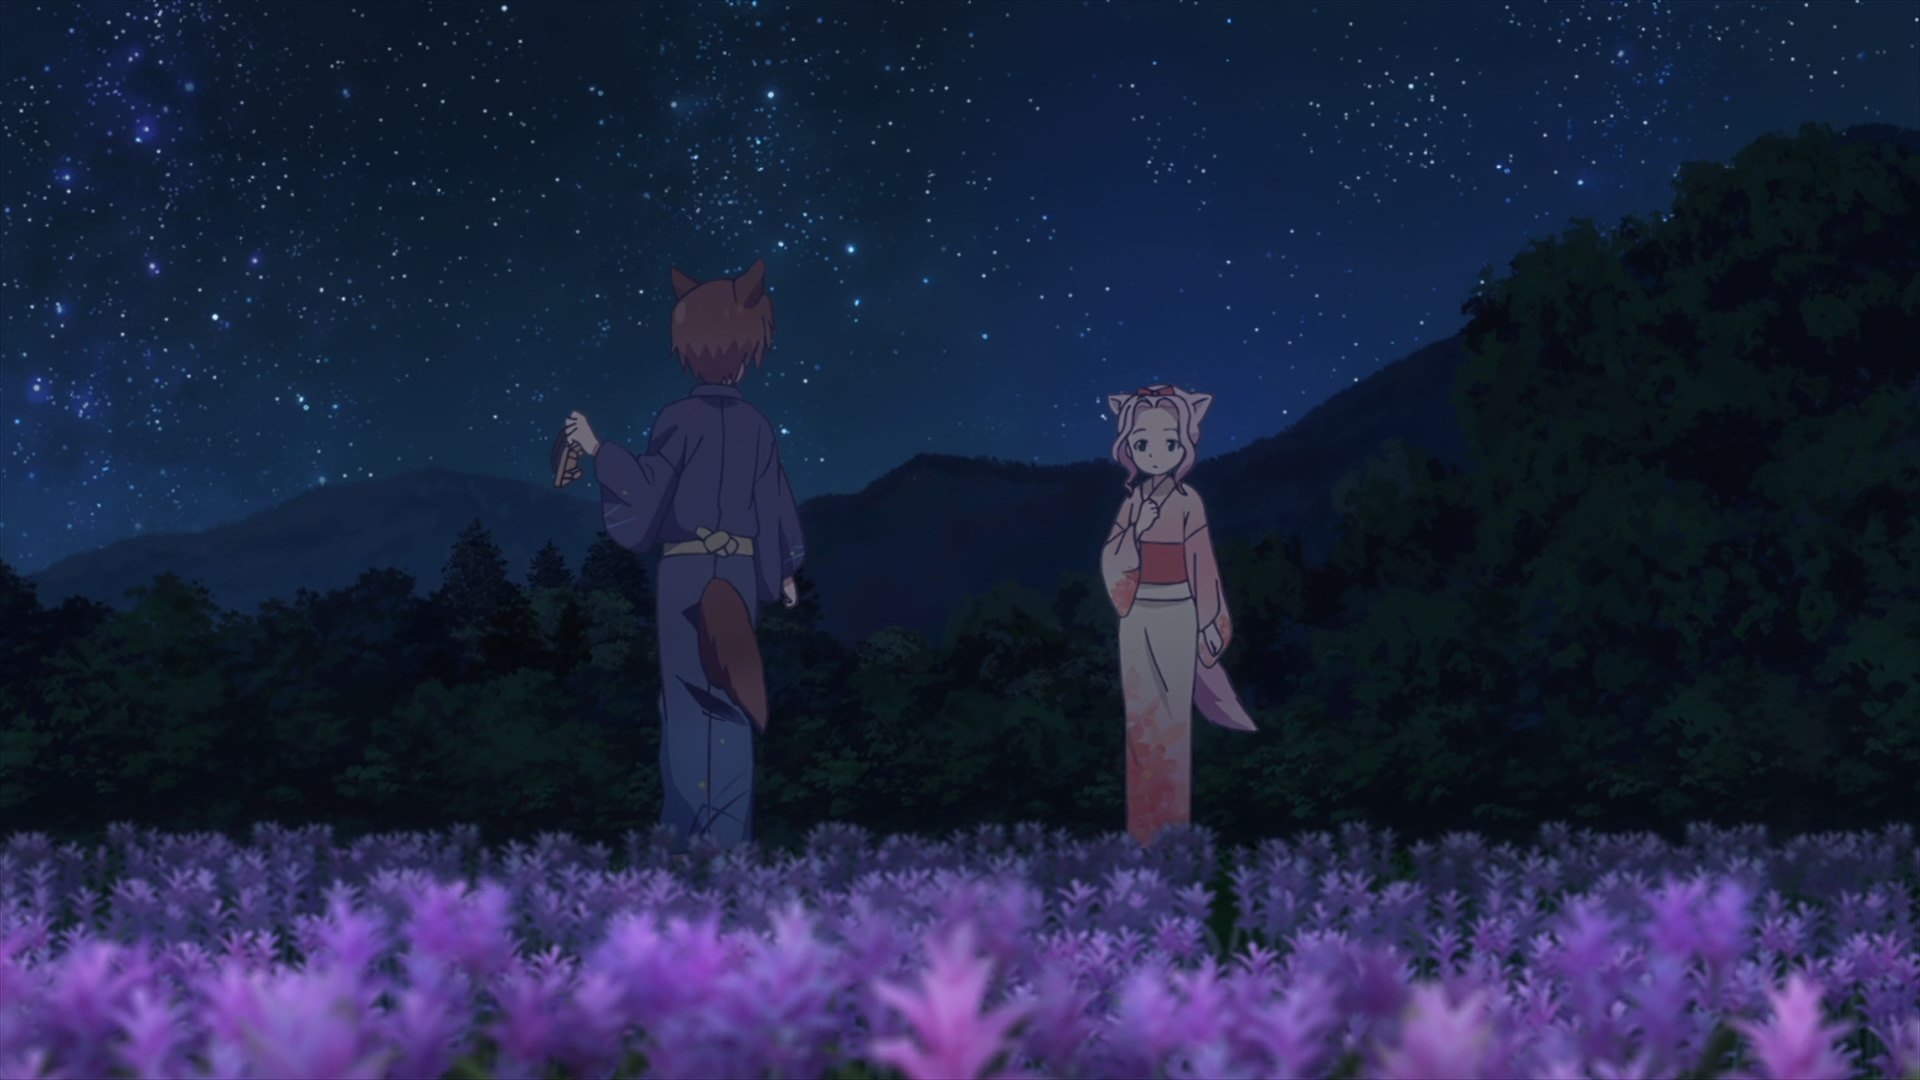枣: (564, 256, 806, 860)
莲: (1100, 381, 1258, 836)
